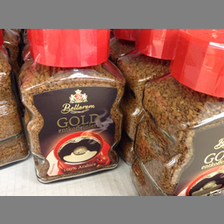coffee: (18, 29, 126, 183), (130, 30, 224, 195)
